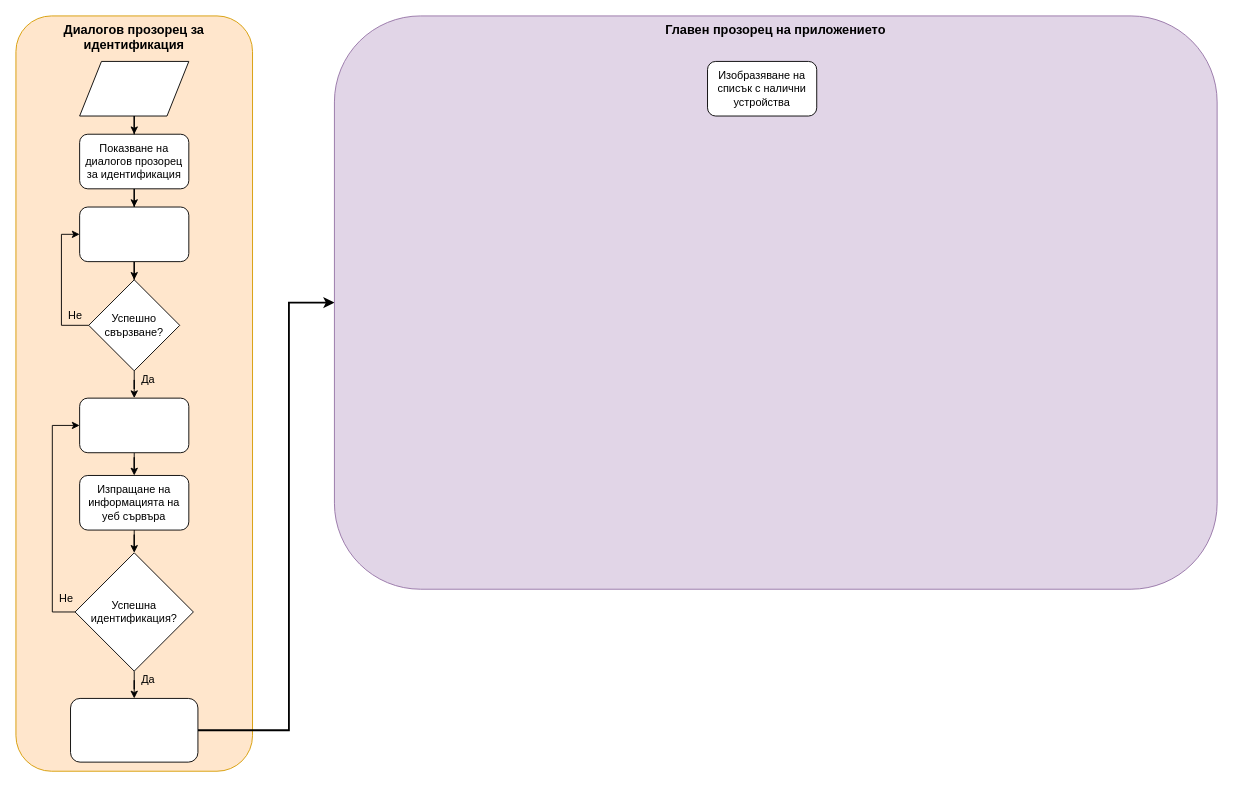
This 1233x787 diagram has some shape labels left out. The shapes that lost their labels are listed below. From the top down, each one's box as (x1, y1, x2, y2) in pixels, then its label:
(79, 61, 189, 116): Начало
(79, 206, 189, 262): Опит за свързване с уеб сървър
(79, 397, 189, 453): Въвеждане на име и парола
(70, 698, 198, 762): Затваряне на диалоговия прозорец за идентификация
